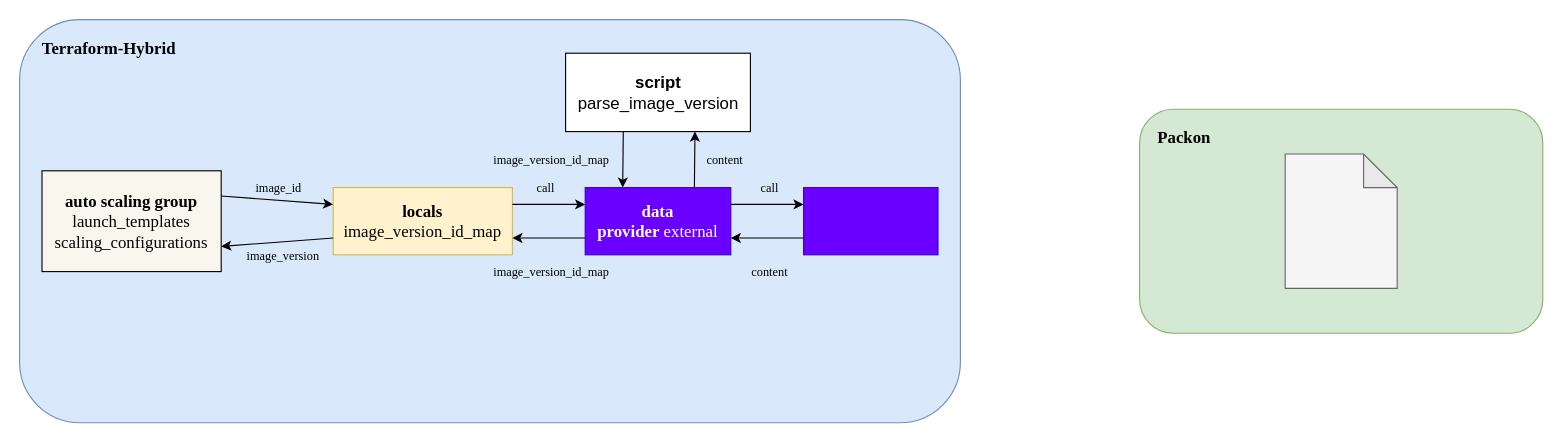
This 1562x442 diagram has some shape labels left out. The centre of each missing label's shape, as x and y in pixels:
"data provider gitlab" goes at pixel 870 220.
"versions.pkr.hcl" goes at pixel 1340 220.
